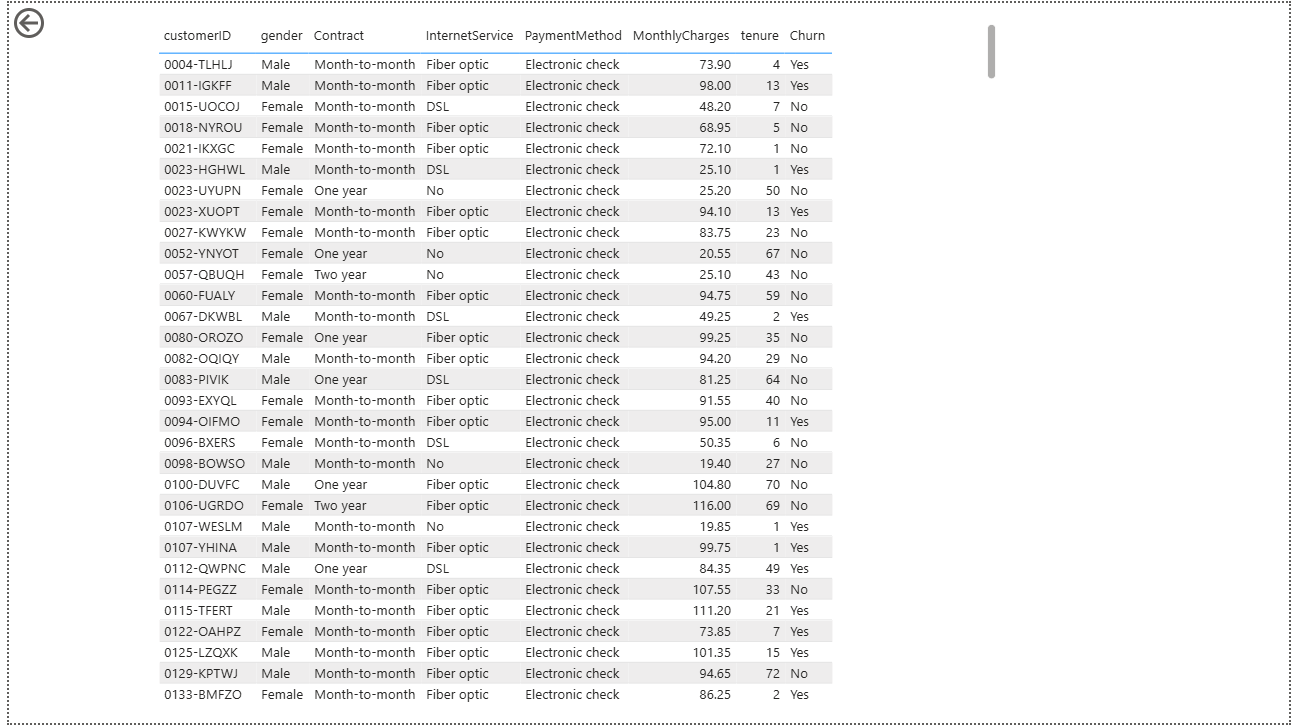

What the dashboard file says about the page in this screenshot:
{"tool":"powerbi","page":{"name":"Customer Details","canvas":[1280,720],"ordinal":2},"visuals":[{"type":"actionButton","box":[0,0,100,40],"z":0},{"type":"tableEx","fields":{"Values":["churn.customerID","churn.gender","churn.Contract","churn.InternetService","churn.PaymentMethod","churn.MonthlyCharges","churn.tenure","churn.Churn"]},"box":[144,16,848,688],"z":1000}]}

Visuals, with their boxes on the page's 1280x720 design canvas (x1, y1, x2, y2). These are canvas units, not pixel positions in the 1294x726 screenshot, which may show the page scaled, cropped or inside an application window:
actionButton: (x1=0, y1=0, x2=100, y2=40)
tableEx - churn.customerID x churn.gender: (x1=144, y1=16, x2=992, y2=704)
